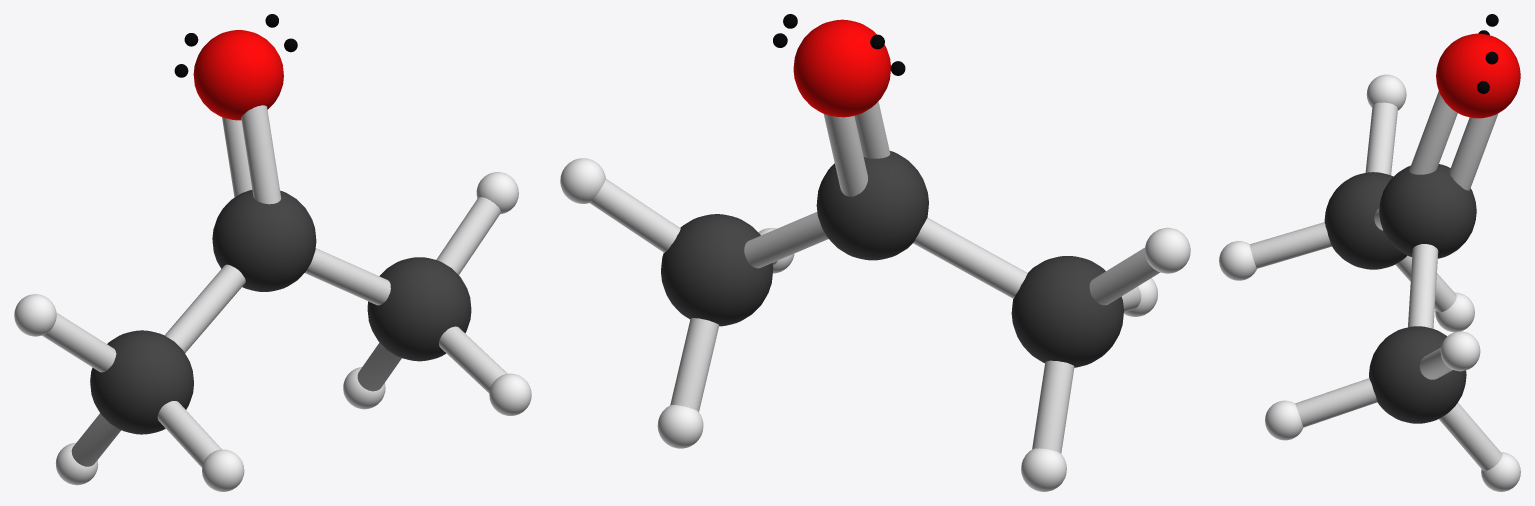
The picture shows the model from 3 angles, left to right: view 1: azimuth 30°, elevation 25°; view 2: azimuth 150°, elevation 25°; view 3: azimuth 270°, elevation 25°; orthographic projection. The views are drawn at different scales.
Parts seen in each view (by area): view 1: Atom_Propanone_1_C, Atom_Propanone_3_C, Atom_Propanone_0_C, Atom_Propanone_2_O, Bond_Propanone_0_1, Bond_Propanone_1_2_1, Bond_Propanone_1_3, Bond_Propanone_3_9, Bond_Propanone_0_6, Bond_Propanone_3_7, Bond_Propanone_0_4, Bond_Propanone_1_2_0 (+8 smaller); view 2: Atom_Propanone_3_C, Atom_Propanone_0_C, Atom_Propanone_1_C, Atom_Propanone_2_O, Bond_Propanone_0_1, Bond_Propanone_3_8, Bond_Propanone_3_9, Bond_Propanone_0_5, Bond_Propanone_1_3, Bond_Propanone_1_2_0, Bond_Propanone_0_6, Atom_Propanone_6_H (+4 smaller); view 3: Atom_Propanone_1_C, Atom_Propanone_3_C, Atom_Propanone_2_O, Atom_Propanone_0_C, Bond_Propanone_1_3, Bond_Propanone_3_7, Bond_Propanone_0_4, Bond_Propanone_1_2_1, Bond_Propanone_1_2_0, Bond_Propanone_0_6, Bond_Propanone_3_8, Atom_Propanone_9_H (+7 smaller).
Part boxes in pixels (<box>): Atom_Propanone_1_C: <box>212,190,316,291</box>; Atom_Propanone_3_C: <box>367,257,471,361</box>; Atom_Propanone_0_C: <box>90,330,193,434</box>; Atom_Propanone_2_O: <box>193,30,283,120</box>; Bond_Propanone_0_1: <box>164,264,245,352</box>; Bond_Propanone_1_2_1: <box>241,105,281,204</box>; Bond_Propanone_1_3: <box>305,248,390,305</box>; Bond_Propanone_3_9: <box>436,197,500,274</box>; Bond_Propanone_0_6: <box>42,312,116,372</box>; Bond_Propanone_3_7: <box>439,326,507,393</box>; Bond_Propanone_0_4: <box>157,401,221,467</box>; Bond_Propanone_1_2_0: <box>222,117,252,197</box>; Atom_Propanone_3_C: <box>661,214,773,326</box>; Atom_Propanone_0_C: <box>1011,256,1123,367</box>; Atom_Propanone_1_C: <box>816,151,928,260</box>; Atom_Propanone_2_O: <box>793,19,890,117</box>; Bond_Propanone_0_1: <box>913,217,1027,298</box>; Bond_Propanone_3_8: <box>670,318,719,411</box>; Bond_Propanone_3_9: <box>590,179,680,252</box>; Bond_Propanone_0_5: <box>1032,360,1074,453</box>; Bond_Propanone_1_3: <box>744,212,828,268</box>; Bond_Propanone_1_2_0: <box>823,114,867,196</box>; Bond_Propanone_0_6: <box>1089,247,1160,305</box>; Atom_Propanone_6_H: <box>1145,227,1190,273</box>; Atom_Propanone_1_C: <box>1379,164,1476,258</box>; Atom_Propanone_3_C: <box>1369,326,1466,423</box>; Atom_Propanone_2_O: <box>1436,33,1520,118</box>; Atom_Propanone_0_C: <box>1324,172,1407,269</box>; Bond_Propanone_1_3: <box>1408,244,1438,328</box>; Bond_Propanone_3_7: <box>1295,378,1377,427</box>; Bond_Propanone_0_4: <box>1249,222,1331,268</box>; Bond_Propanone_1_2_1: <box>1409,91,1457,174</box>; Bond_Propanone_1_2_0: <box>1449,113,1498,190</box>; Bond_Propanone_0_6: <box>1365,102,1397,175</box>; Bond_Propanone_3_8: <box>1439,402,1502,470</box>; Atom_Propanone_9_H: <box>1440,331,1480,371</box>.
Bounding box in the file's own units: 4.53 × 3.38 × 2.35.
